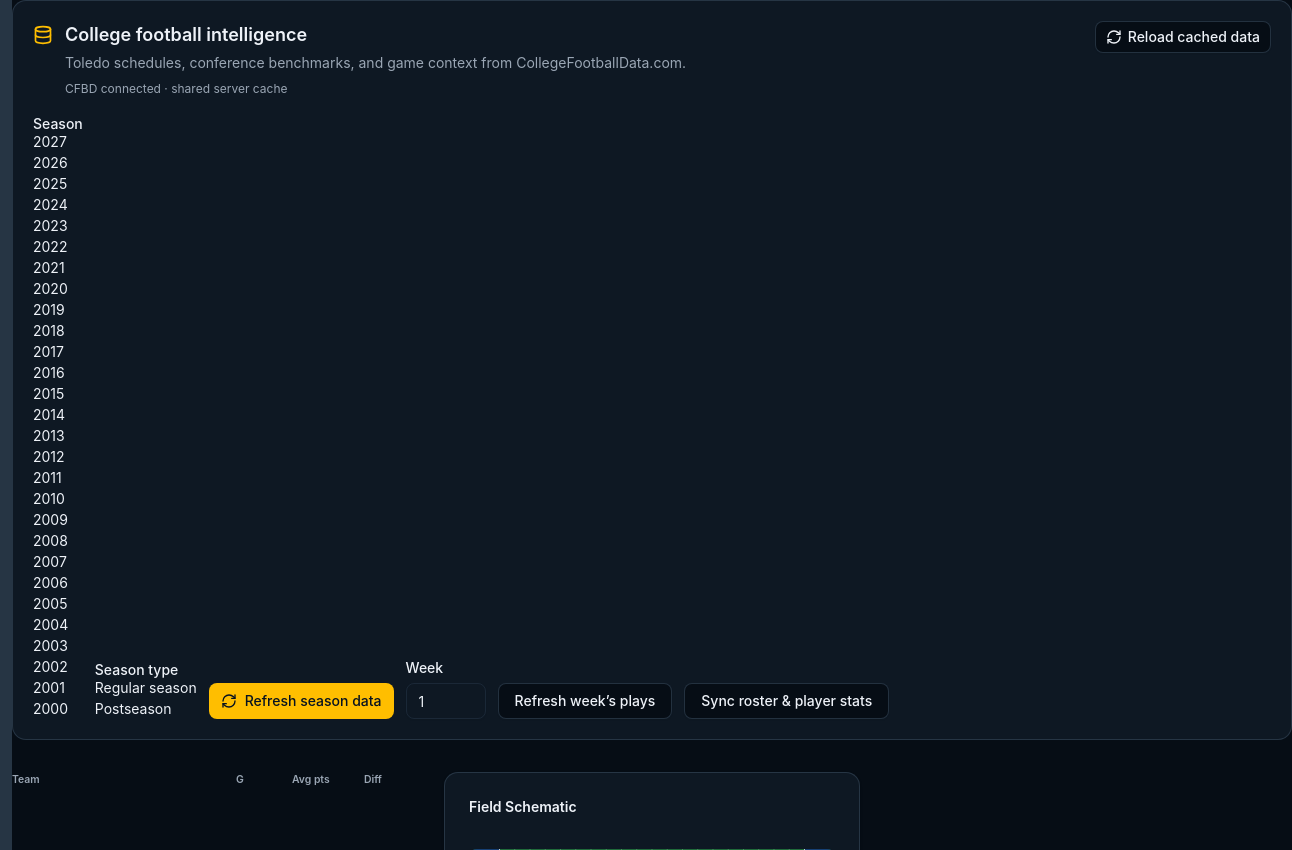
Test: CollegeDataPage states › administrators refresh bounded scopes through the team API
This screenshot has width=1292, height=850.
Click the button "Refresh season data" at (301, 701), box [209,683,394,719]
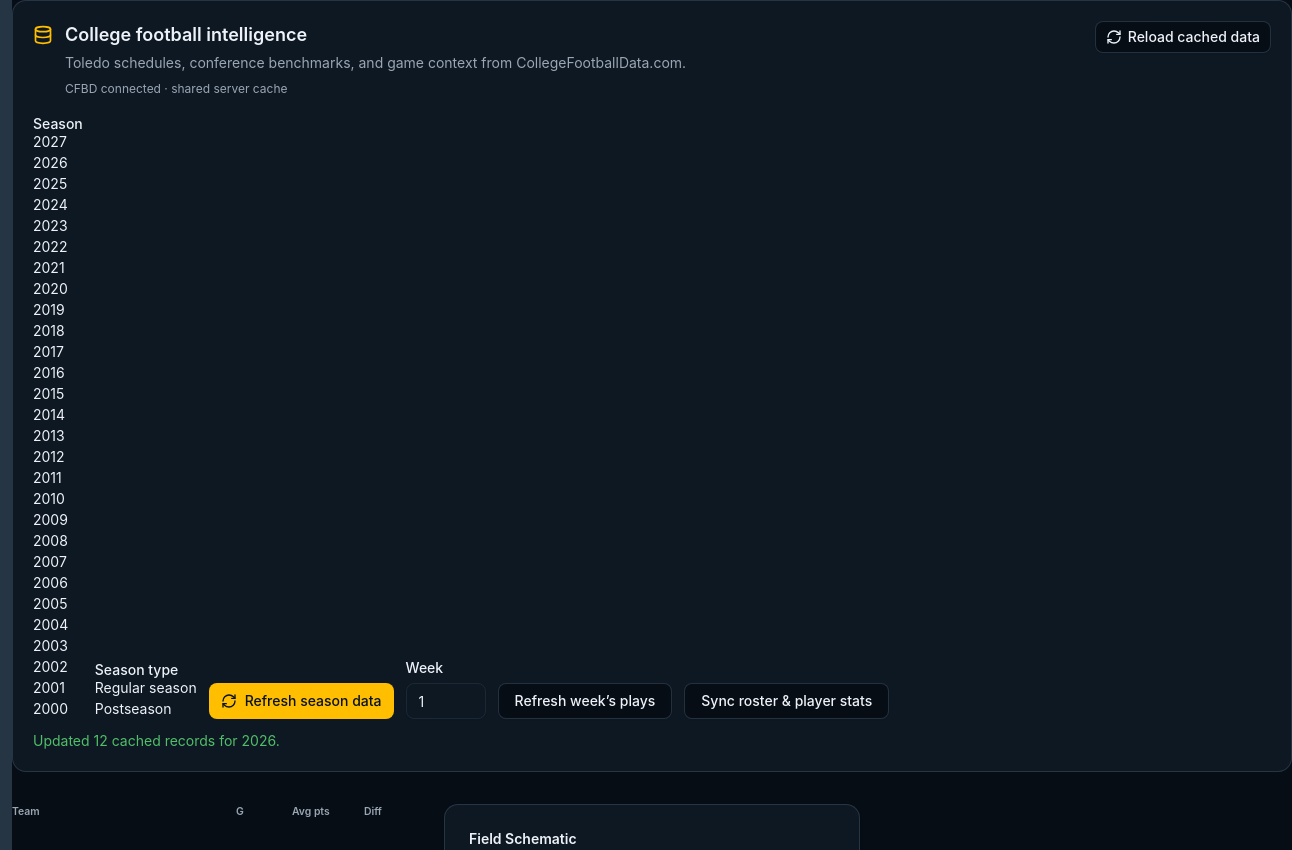
Result: the text "Updated 12 cached records for 2026." is shown at [33,732,280,749]
